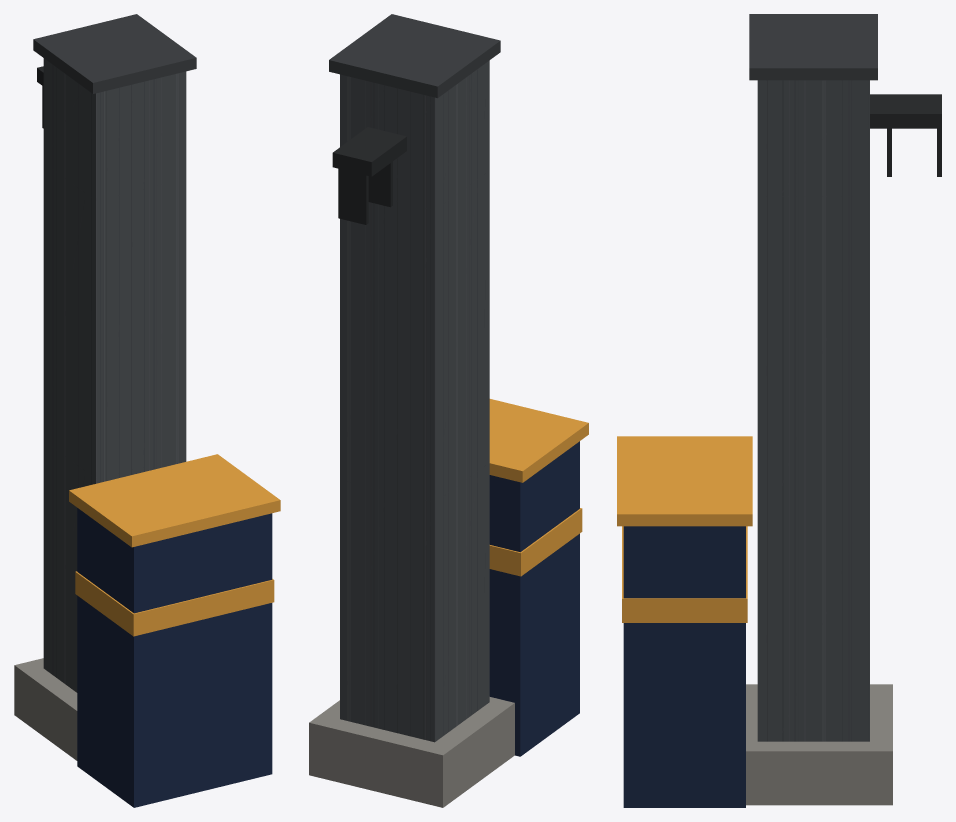
Rendered from MinidoracatKnoxPass_slidemotor1_F.glb.
3 views of the same model, side by side, from view 1: azimuth 30°, elevation 25°; view 2: azimuth 150°, elevation 25°; view 3: azimuth 270°, elevation 25° (orthographic). The views are drawn at different scales.
Visible parts, largest first — view 1: MinidoracatKnoxPass_slidemotor1_F; view 2: MinidoracatKnoxPass_slidemotor1_F; view 3: MinidoracatKnoxPass_slidemotor1_F.
Part boxes in pixels (<box>): MinidoracatKnoxPass_slidemotor1_F: <box>14,14,280,807</box>; MinidoracatKnoxPass_slidemotor1_F: <box>309,14,588,807</box>; MinidoracatKnoxPass_slidemotor1_F: <box>617,14,941,807</box>.
Bounding box in the file's own units: 0.56 × 2.44 × 0.983.
Materials: 1 (1 with a texture image).
